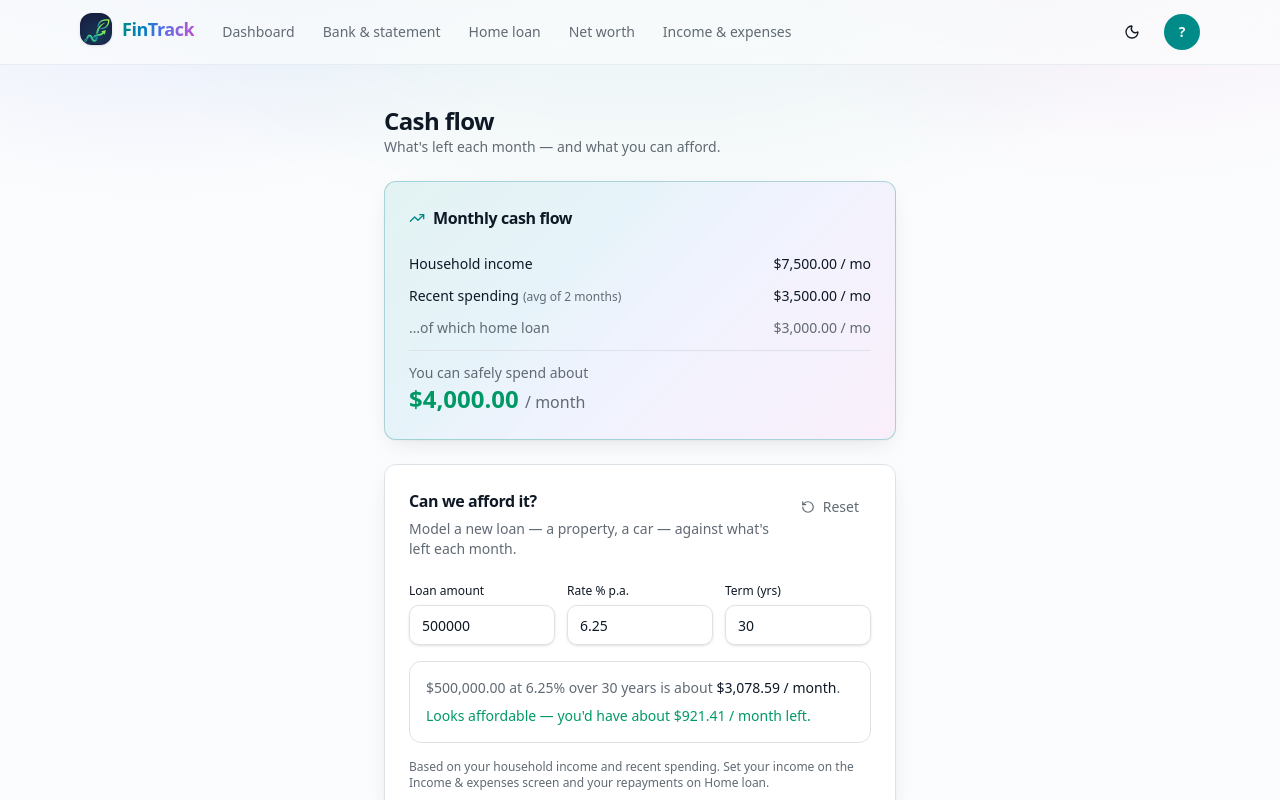
Scenario: CashFlowPage › resets the affordability inputs to zero
Expected: the number field labelled "Loan amount" holds "500000", [409,605,555,645]
What coordinates should you click on to do the following:
click the button with test id "affordability-reset"
I would click on:
 (830, 507)
Its box is [789,489,871,525].
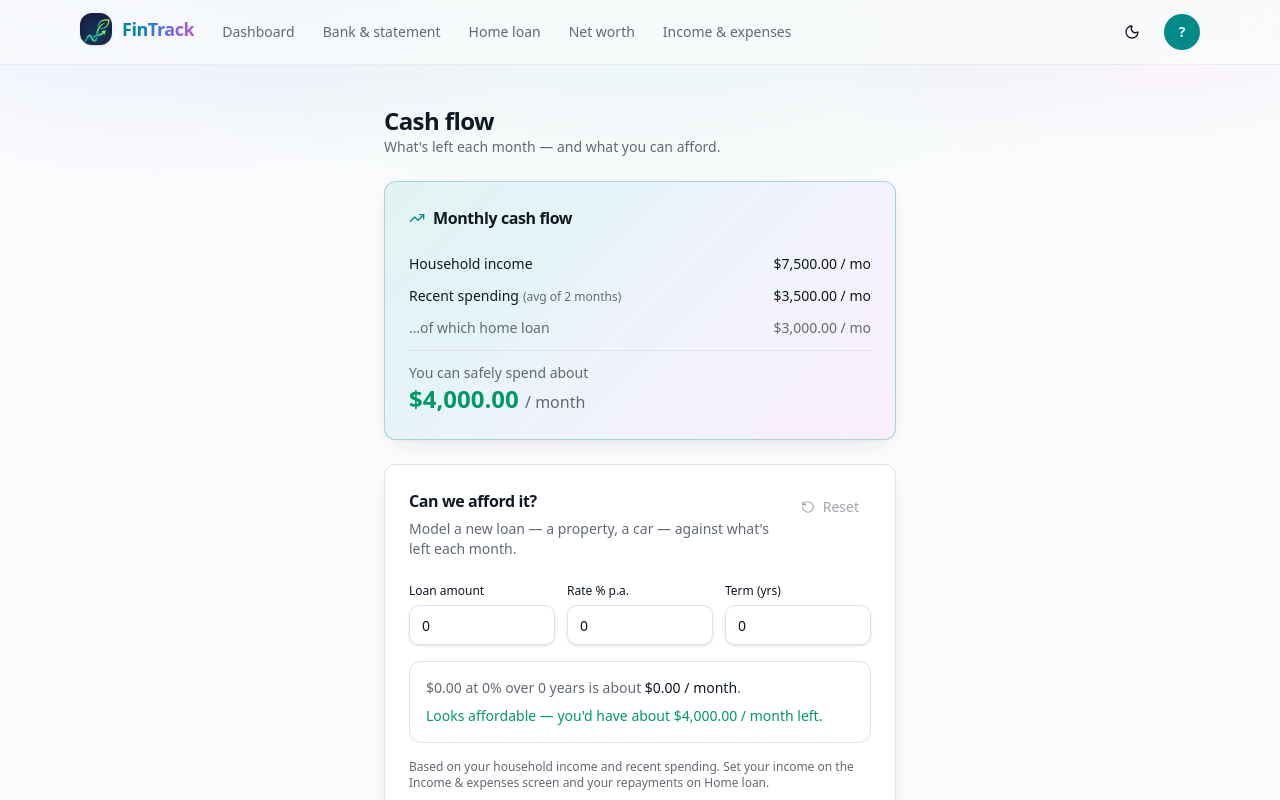
Now the number field labelled "Loan amount" holds "0", box [409,605,555,645]
Now the number field labelled "Rate % p.a." holds "0", box [567,605,713,645]
Now the number field labelled "Term (yrs)" holds "0", box [725,605,871,645]
